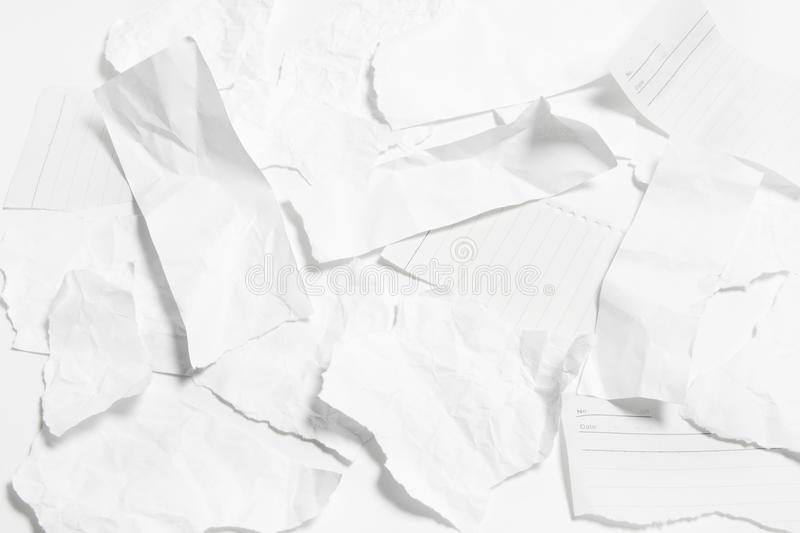paper: (92, 40, 314, 374), (320, 295, 589, 533), (592, 142, 800, 412), (307, 102, 625, 261), (368, 6, 578, 155), (608, 0, 779, 152), (39, 270, 151, 442)
